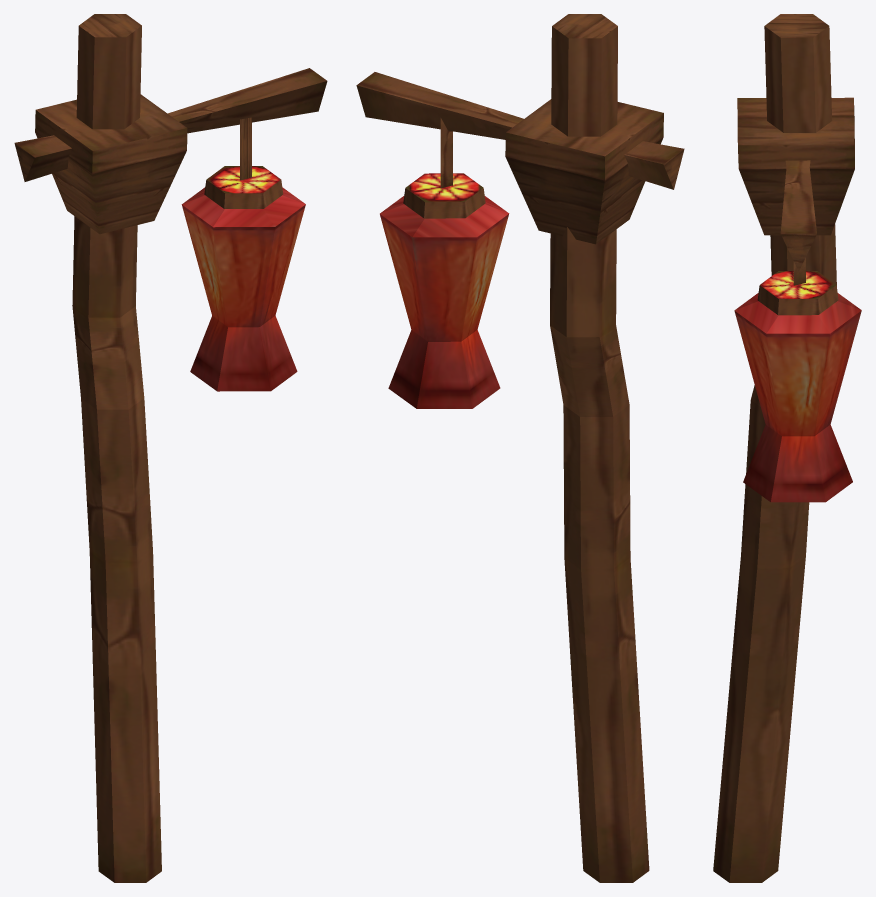
File: cunlou_xiaowujian16.FBX
3 renders of one model, left to right at view 1: azimuth 30°, elevation 25°; view 2: azimuth 150°, elevation 25°; view 3: azimuth 270°, elevation 25°, orthographic. The views are drawn at different scales.
Visible parts, largest first — view 1: cunlou_xiaowujian16; view 2: cunlou_xiaowujian16; view 3: cunlou_xiaowujian16.
Boxes of the visible parts, <box> form: cunlou_xiaowujian16: <box>14,14,327,882</box>; cunlou_xiaowujian16: <box>356,14,684,882</box>; cunlou_xiaowujian16: <box>713,14,861,882</box>.
Size of the model in its own units: 86.8 by 233 by 36.97.
